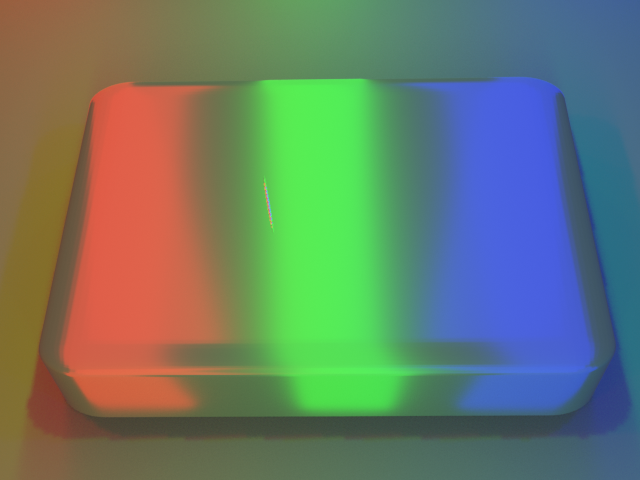scratch: (134, 133, 388, 272)
